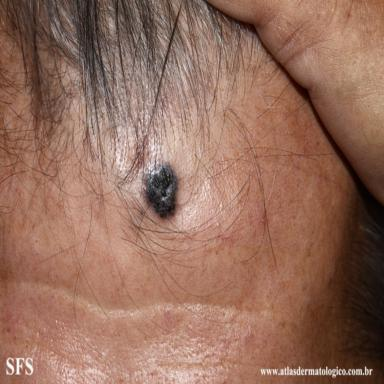basal-cell-carcinoma: (145, 164, 178, 217)
